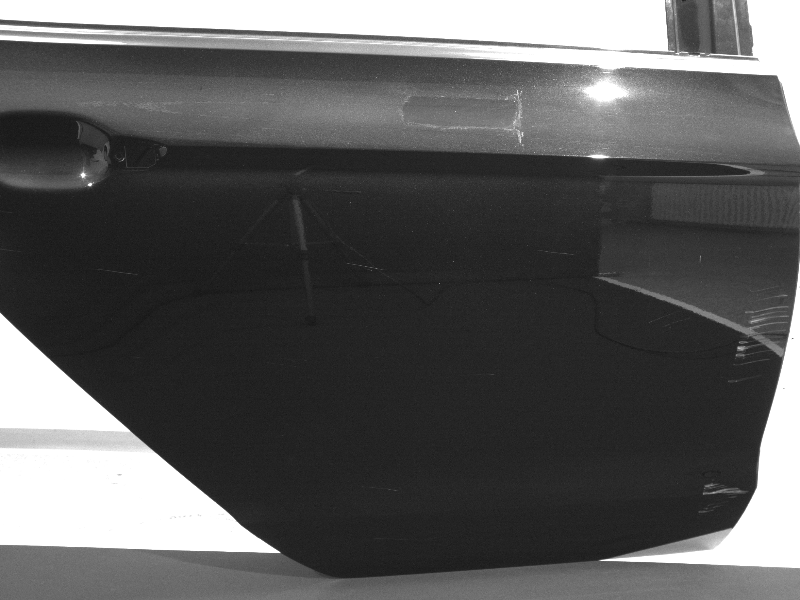scratch: (727, 284, 792, 385), (698, 479, 749, 514), (649, 308, 691, 327), (96, 267, 139, 277), (347, 262, 387, 272), (538, 249, 576, 256), (365, 485, 398, 493), (468, 371, 497, 377), (375, 537, 411, 541), (698, 255, 702, 264)
